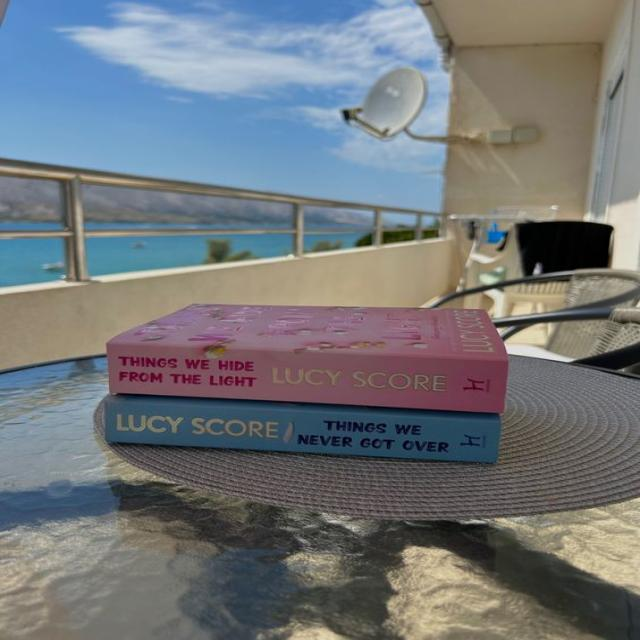book: (106, 342, 507, 416), (101, 395, 499, 463)
